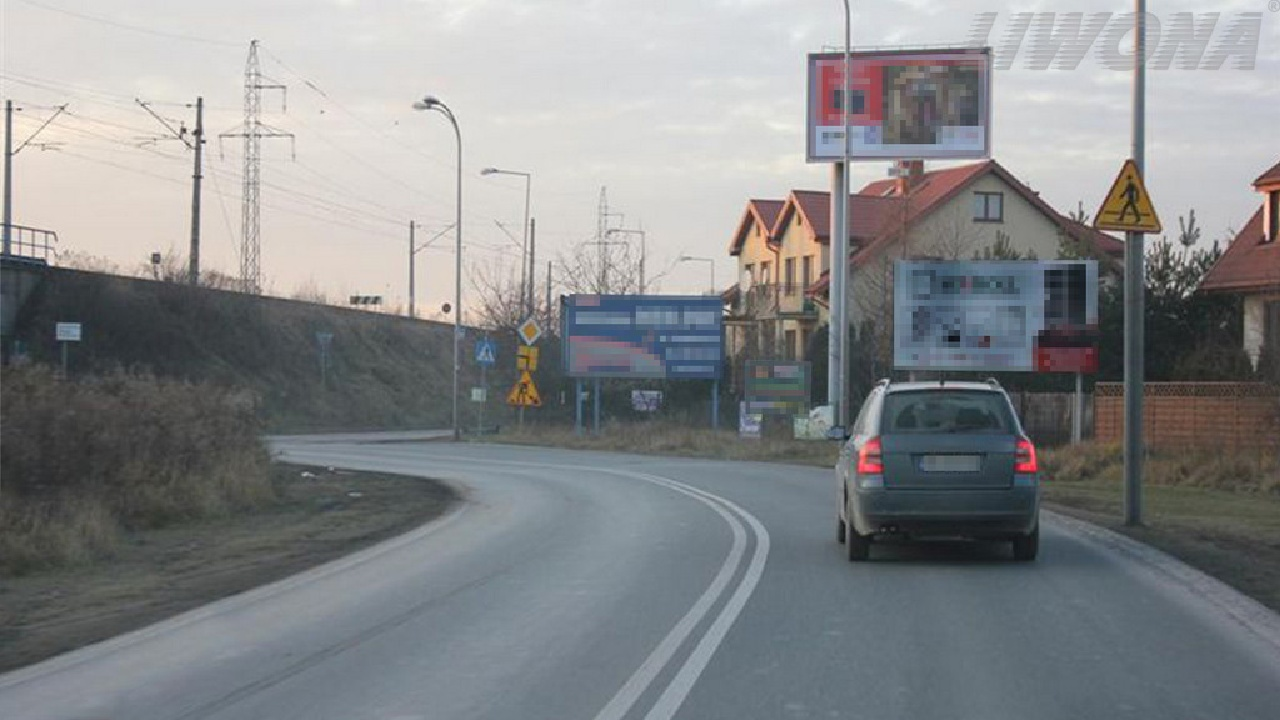A16: (1094, 160, 1163, 234)
D1: (517, 317, 542, 345)
